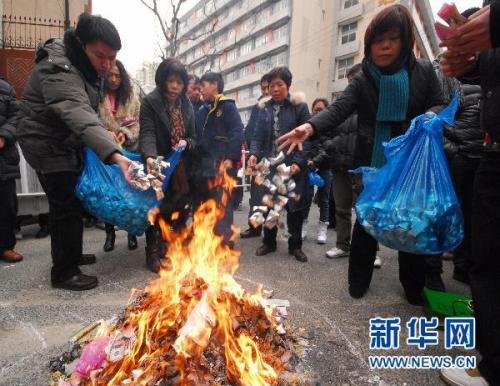fire: (120, 164, 285, 382)
